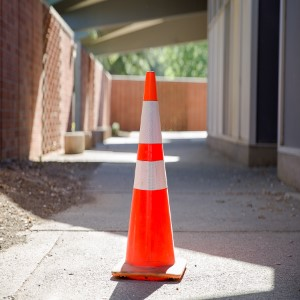traffic cone: (111, 70, 186, 281)
